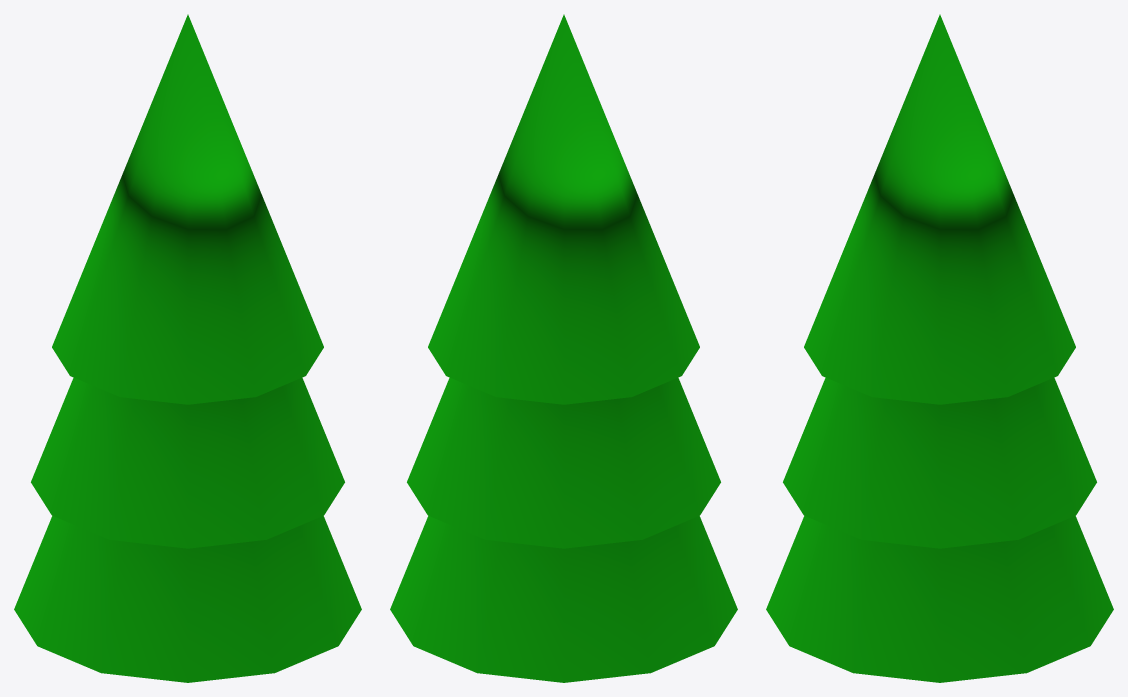
Rendered from tree.obj.
3 renders of one model, left to right at view 1: azimuth 30°, elevation 25°; view 2: azimuth 150°, elevation 25°; view 3: azimuth 270°, elevation 25°, orthographic.
Visible parts, largest first — view 1: pCone1, pCone3, pCone2; view 2: pCone1, pCone3, pCone2; view 3: pCone1, pCone3, pCone2.
Part boxes in pixels (box(x1,y1,x2,y2)): pCone1: box(52, 14, 323, 404); pCone3: box(14, 516, 361, 682); pCone2: box(31, 377, 344, 548); pCone1: box(428, 14, 699, 404); pCone3: box(390, 516, 737, 682); pCone2: box(407, 377, 720, 548); pCone1: box(804, 14, 1075, 404); pCone3: box(766, 516, 1113, 682); pCone2: box(783, 377, 1096, 548).
Size of the model in its own units: 4.64 by 9.51 by 4.64.
